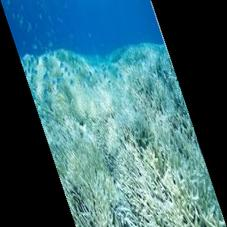bleached_corals: (18, 12, 227, 227)
